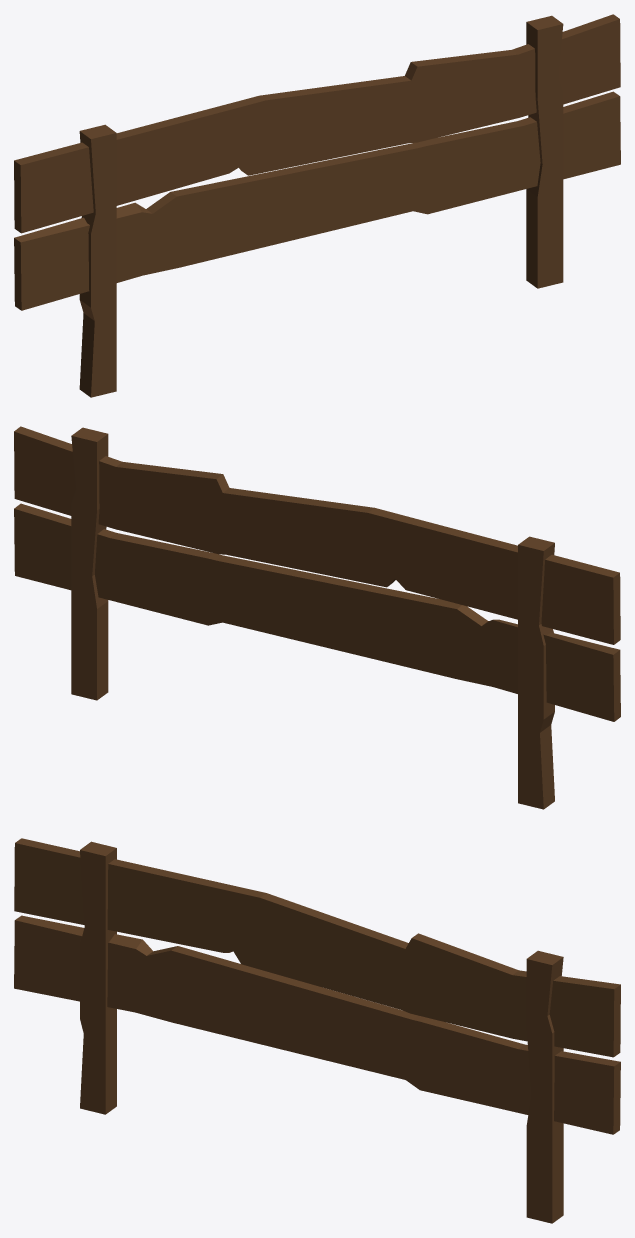
The model's file is fence.glb.
3 views of the same model, one above another, from view 1: azimuth 30°, elevation 25°; view 2: azimuth 150°, elevation 25°; view 3: azimuth 330°, elevation 25° (orthographic).
Visible parts, largest first — view 1: Fence; view 2: Fence; view 3: Fence.
Part boxes in pixels (left/top/right/bottom): Fence: left=14, top=14, right=620, bottom=397; Fence: left=14, top=426, right=620, bottom=809; Fence: left=14, top=838, right=620, bottom=1223.
Bounding box in the file's own units: 0.791 × 0.326 × 0.0259.
